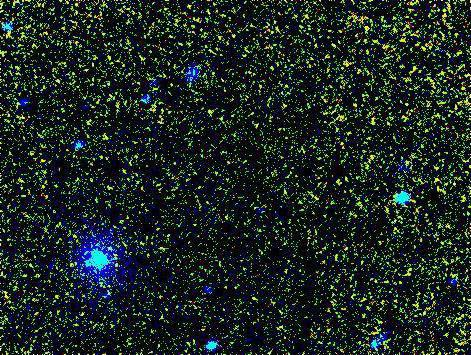star: (61, 250, 91, 280)
